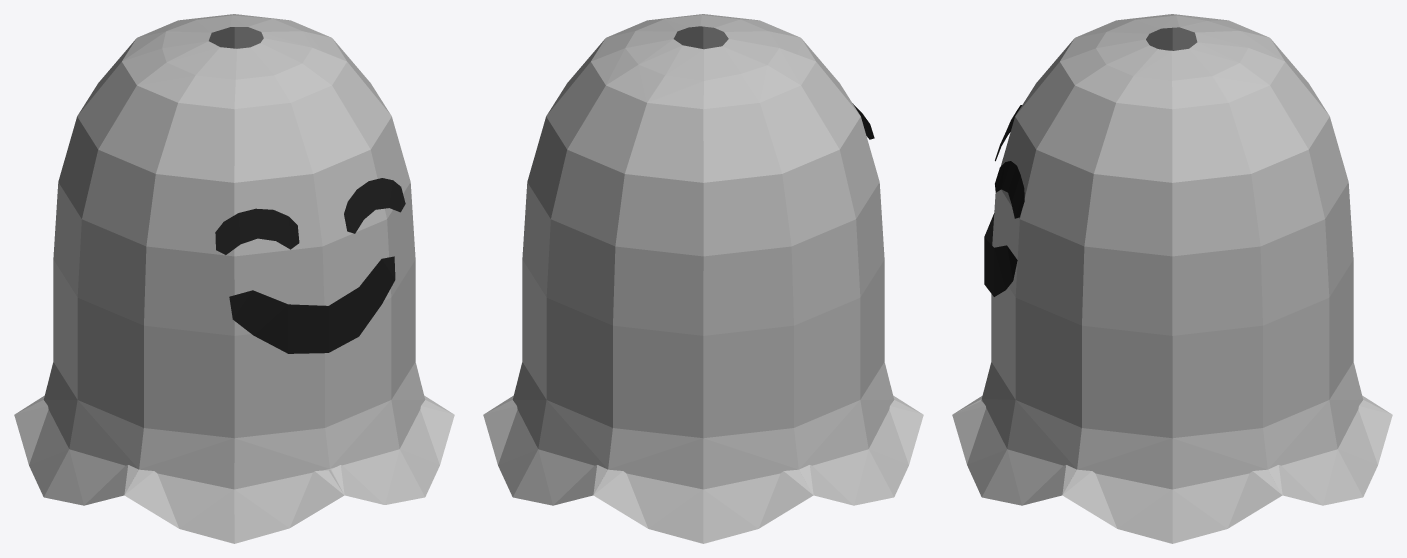
File: Fantasmanocuerpo.obj
3 views of the same model, side by side, from view 1: azimuth 30°, elevation 25°; view 2: azimuth 150°, elevation 25°; view 3: azimuth 270°, elevation 25° (orthographic).
Parts seen in each view (by area): view 1: Fantasmano_Material.002; view 2: Fantasmano_Material.002; view 3: Fantasmano_Material.002.
Boxes of the visible parts, box(x1,y1,x2,y2) form: Fantasmano_Material.002: box(14, 14, 454, 543); Fantasmano_Material.002: box(483, 14, 923, 543); Fantasmano_Material.002: box(952, 14, 1392, 543).
Bounding box in the file's own units: 5.46 × 5.64 × 5.46.
